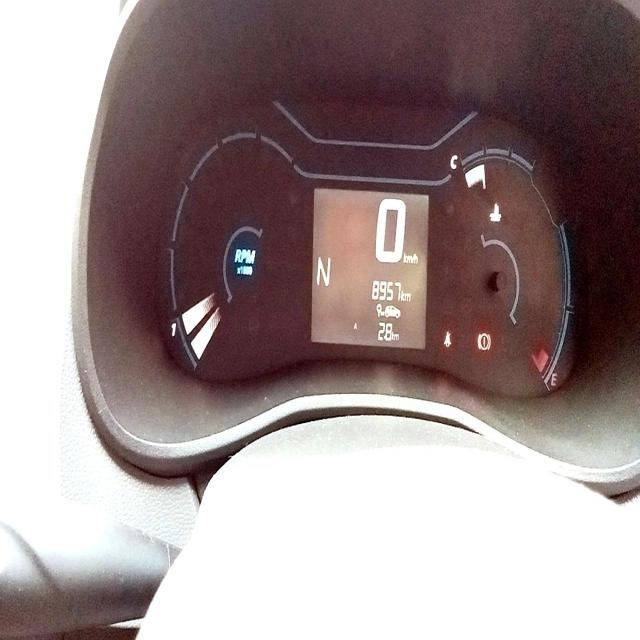odometer: (369, 274, 401, 306)
